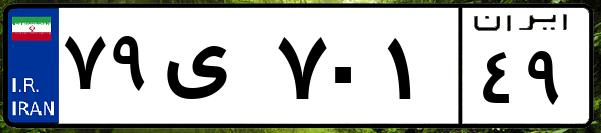0: (330, 28, 385, 110)
1: (385, 28, 445, 110)
4: (475, 38, 525, 113)
7: (270, 28, 330, 110), (57, 26, 110, 100)
9: (525, 38, 570, 115), (110, 28, 158, 98)
ی: (158, 20, 270, 120)
